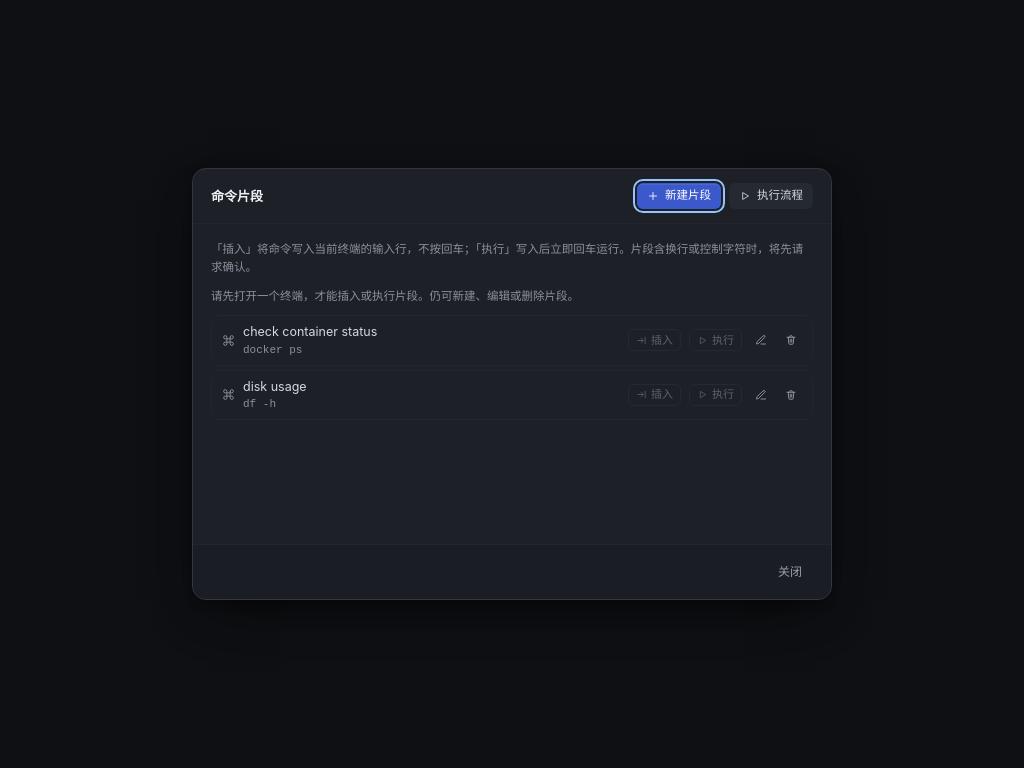
Test case: snippets panel dialog accessibility › opens the editor with focus on the name input and Escape closes only the editor
The width and height of the screenshot is (1024, 768).
Click the button "新建片段": [679, 196] box [637,183,721,209]
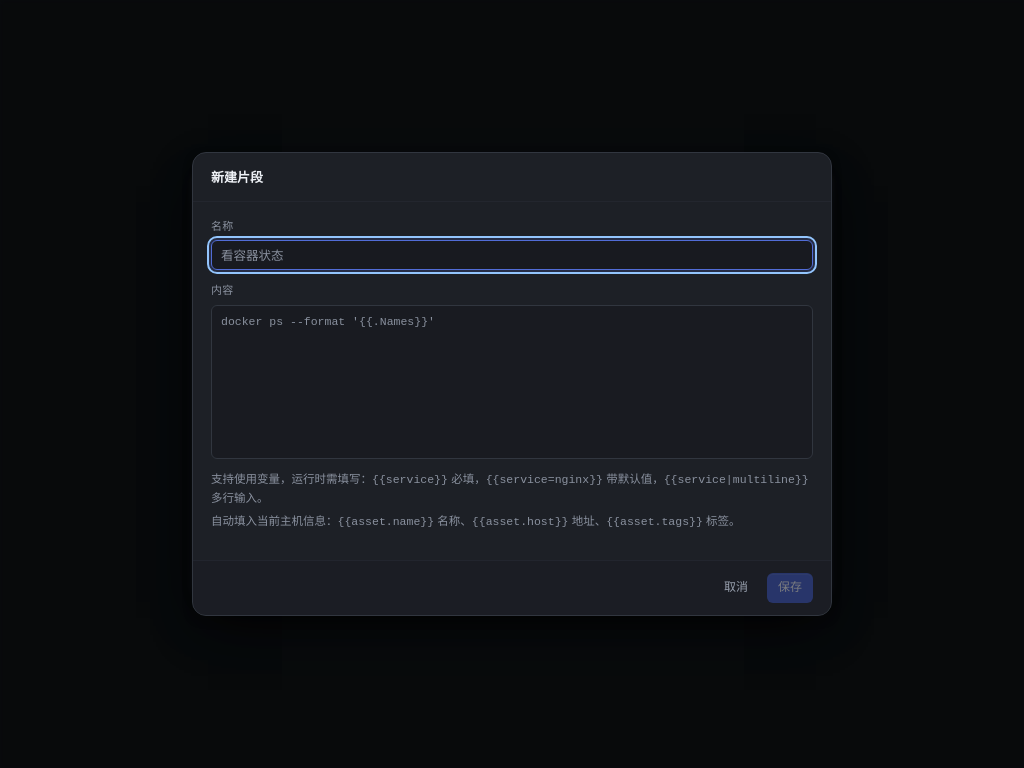
Now the text "新建片段" is shown, box [211,167,263,187]
Press Escape in the field with class "nx-input", box [211,240,813,270]
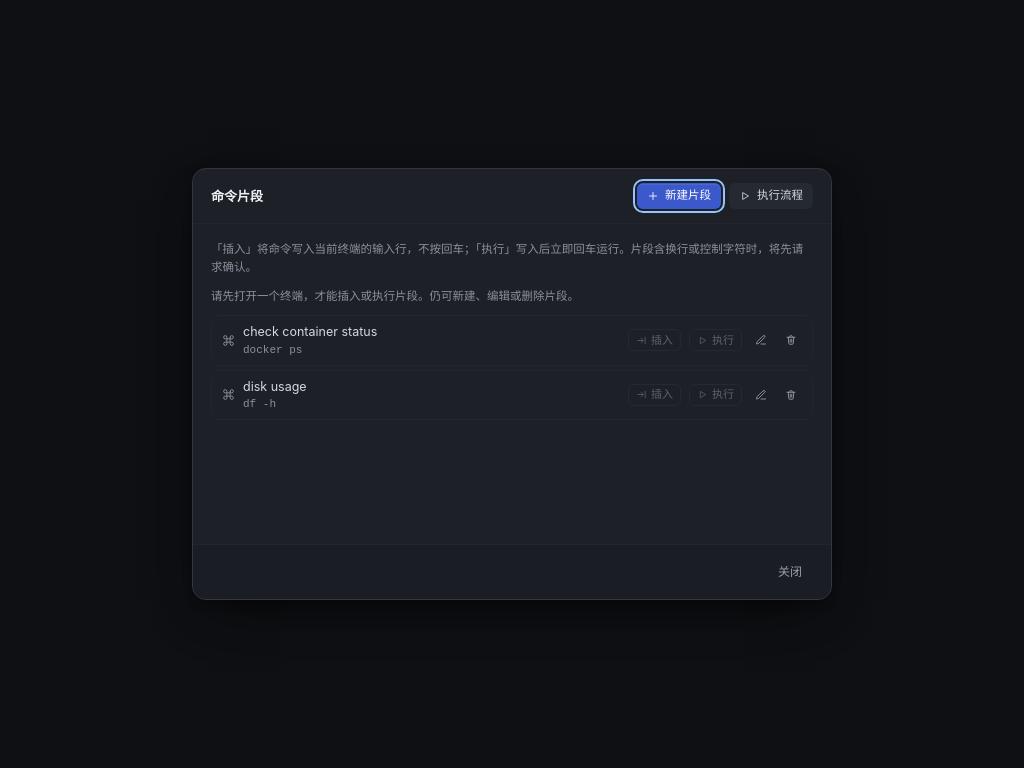
Now the number of dialogs with class "nx-modal" is 1, box [192,168,832,600]
